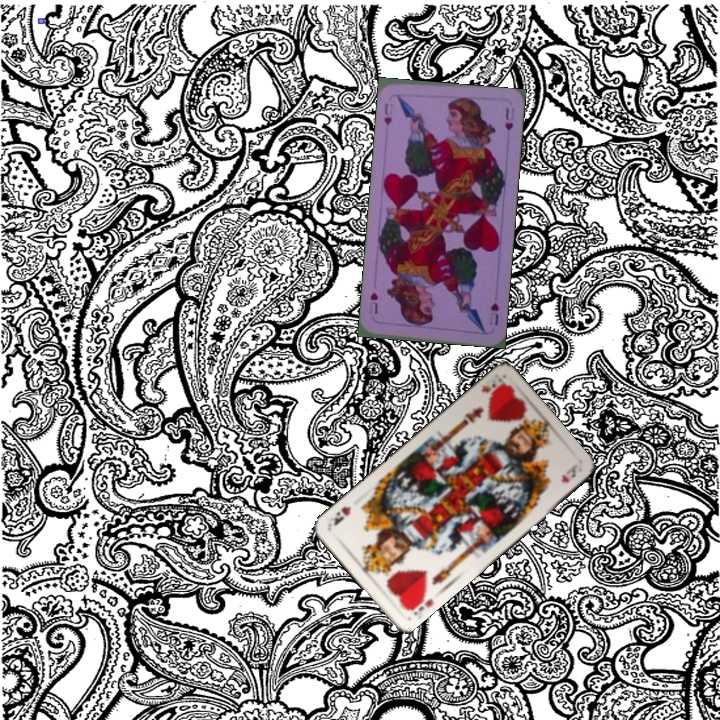HK: (402, 586, 436, 618), (477, 371, 507, 401)
HU: (485, 298, 501, 328), (380, 99, 394, 128)
